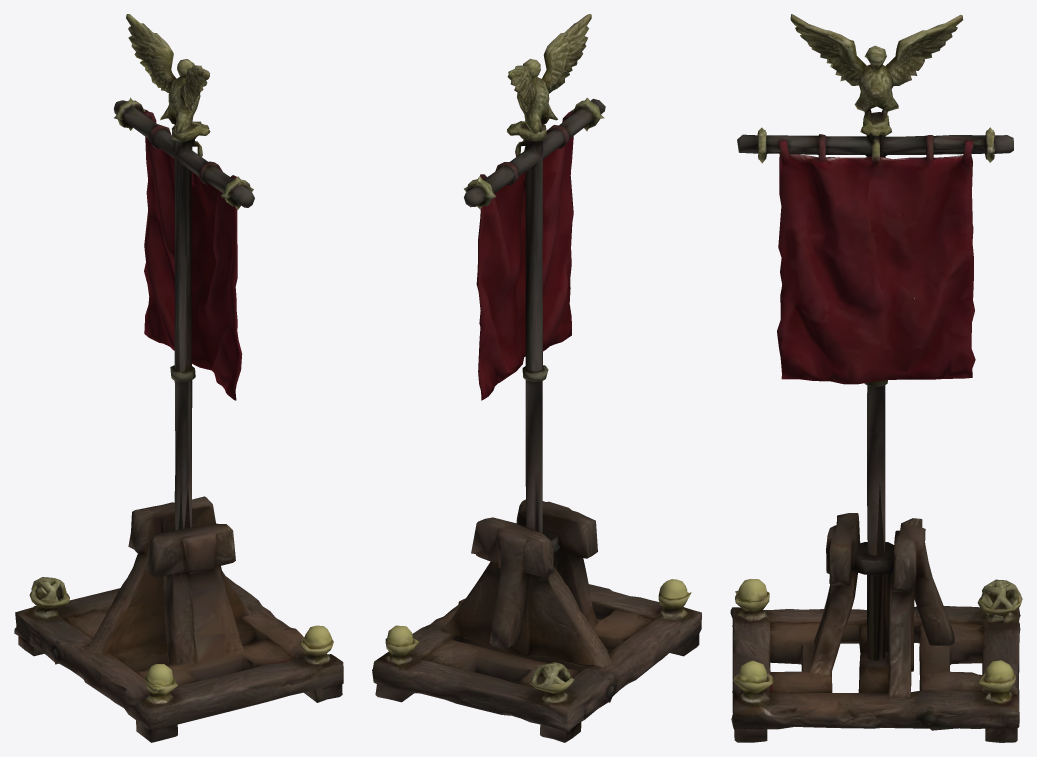
File: eagle-rally-stand.glb
3 views of the same model, side by side, from view 1: azimuth 30°, elevation 25°; view 2: azimuth 150°, elevation 25°; view 3: azimuth 270°, elevation 25° (orthographic). The views are drawn at different scales.
Parts seen in each view (by area): view 1: tripo_node_e3c4f1c7-f7a9-455a-8aba-11b7b38a451d; view 2: tripo_node_e3c4f1c7-f7a9-455a-8aba-11b7b38a451d; view 3: tripo_node_e3c4f1c7-f7a9-455a-8aba-11b7b38a451d.
Boxes of the visible parts, left/top/right/bottom form: tripo_node_e3c4f1c7-f7a9-455a-8aba-11b7b38a451d: left=14, top=14, right=343, bottom=742; tripo_node_e3c4f1c7-f7a9-455a-8aba-11b7b38a451d: left=372, top=14, right=701, bottom=742; tripo_node_e3c4f1c7-f7a9-455a-8aba-11b7b38a451d: left=730, top=14, right=1022, bottom=742.
Size of the model in its own units: 0.8672 by 2.6 by 1.02.
Materials: 1 (1 with a texture image).
